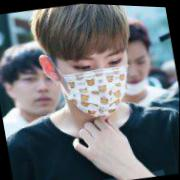NONE: (13, 62, 63, 119)
OK: (54, 35, 140, 124)
WRONG: (114, 47, 157, 98)
